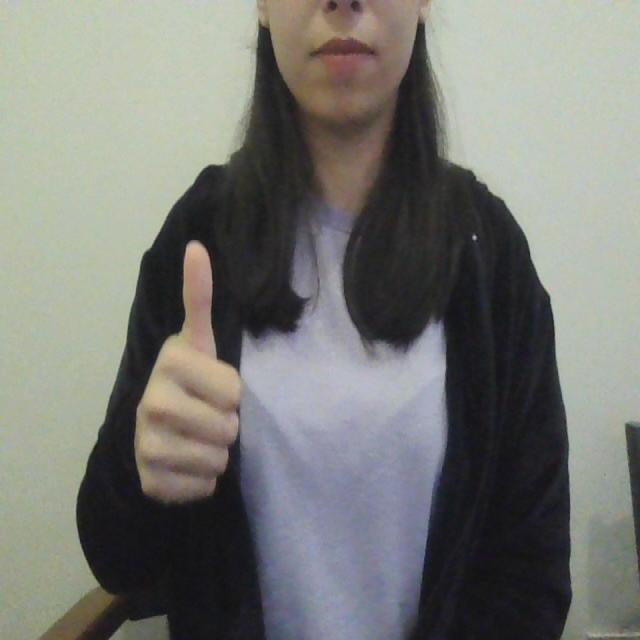Tamam: (119, 233, 258, 512)
